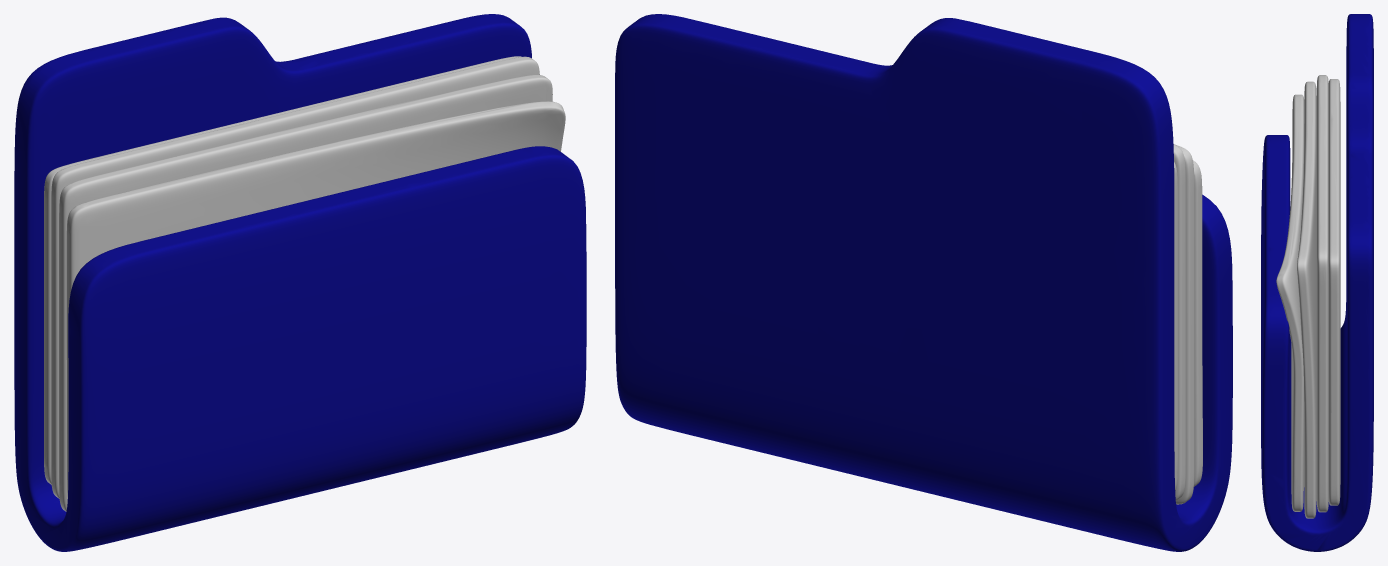
The model's file is folder.glb.
The picture shows the model from 3 angles, left to right: view 1: azimuth 30°, elevation 25°; view 2: azimuth 150°, elevation 25°; view 3: azimuth 270°, elevation 25°; orthographic projection. The views are drawn at different scales.
Visible parts, largest first — view 1: Folder; view 2: Folder; view 3: Folder.
Boxes of the visible parts, left/top/right/bottom form: Folder: left=14, top=14, right=586, bottom=551; Folder: left=615, top=14, right=1232, bottom=551; Folder: left=1261, top=14, right=1373, bottom=551.
Bounding box in the file's own units: 1.9 × 1.65 × 0.4668.
